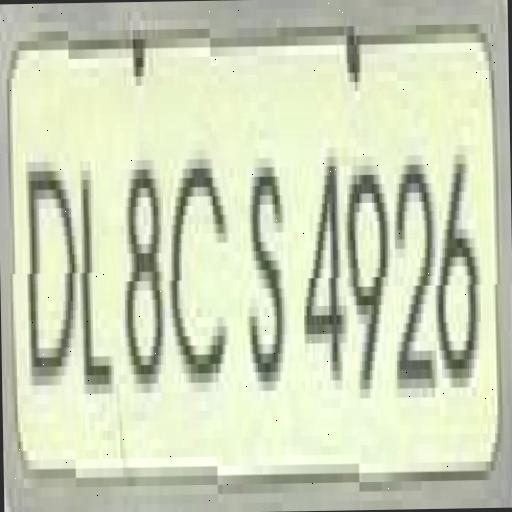number plate: (0, 12, 498, 486)
